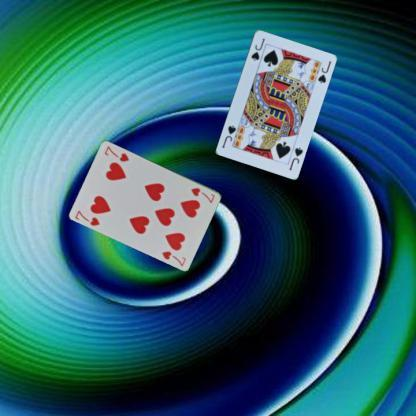7h: (72, 207, 102, 227), (188, 184, 216, 204)
Js: (248, 35, 266, 62), (286, 144, 304, 170)
